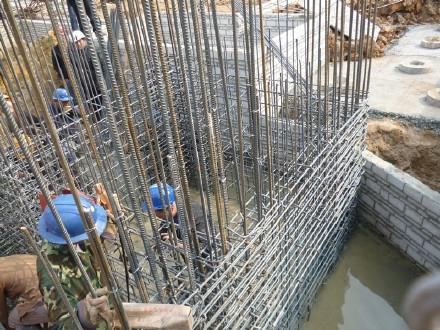helmet: (40, 194, 110, 247), (141, 181, 176, 213), (49, 86, 71, 101)
no_wear: (33, 250, 119, 330)
